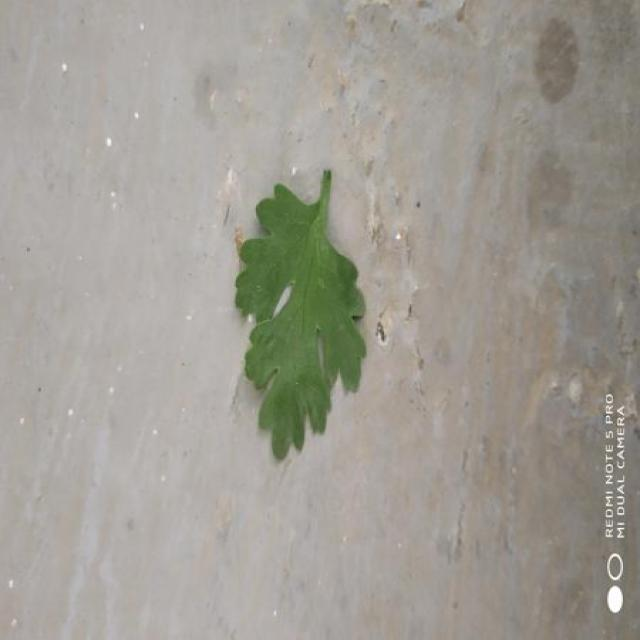coriender: (235, 171, 365, 459)
